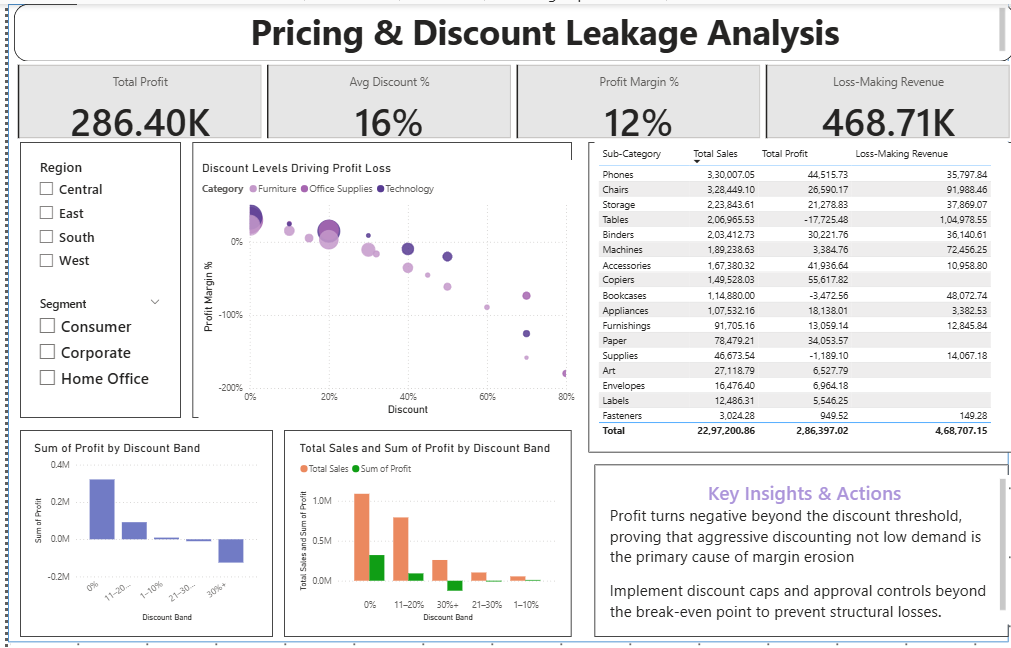

The dashboard page shown, as its layout file describes it:
{"tool":"powerbi","page":{"name":"Page 2","canvas":[1400,900],"ordinal":1},"visuals":[{"type":"shape","box":[0,0,1392,888],"z":0},{"type":"shape","box":[8,0,1392,80],"z":1000},{"type":"cardVisual","fields":{"Data":["Sample - Superstore.Total Profit","Sample - Superstore.Avg Discount %","Sample - Superstore.Profit Margin %","Sample - Superstore.Loss-Making Revenue"]},"box":[8,80,1392,112],"z":2000},{"type":"shape","box":[256,192,528,384],"z":3000},{"type":"scatterChart","title":"Discount Levels Driving Profit Loss","fields":{"X":["Sample - Superstore.Discount"],"Y":["Sample - Superstore.Profit Margin %"],"Series":["Sample - Superstore.Category"],"Size":["Sample - Superstore.Total Sales"]},"box":[264,216,528,360],"z":4000},{"type":"shape","box":[16,192,224,384],"z":5000},{"type":"shape","box":[16,592,352,288],"z":6000},{"type":"shape","box":[384,592,400,288],"z":7000},{"type":"columnChart","fields":{"Y":["Sum(Sample - Superstore.Profit)"],"Category":["Sample - Superstore.Discount Band"]},"box":[32,608,320,256],"z":8000},{"type":"clusteredColumnChart","fields":{"Y":["Sample - Superstore.Total Sales","Sum(Sample - Superstore.Profit)"],"Category":["Sample - Superstore.Discount Band"]},"box":[400,608,368,256],"z":9000},{"type":"shape","box":[808,192,592,432],"z":10000},{"type":"shape","box":[816,640,576,240],"z":11000},{"type":"textbox","box":[832,656,560,208],"z":12000},{"type":"slicer","fields":{"Values":["Sample - Superstore.Region"]},"box":[32,208,192,176],"z":13000},{"type":"slicer","fields":{"Values":["Sample - Superstore.Segment"]},"box":[32,400,192,160],"z":14000},{"type":"tableEx","fields":{"Values":["Sample - Superstore.Sub-Category","Sample - Superstore.Total Sales","Sample - Superstore.Total Profit","Sample - Superstore.Loss-Making Revenue"]},"box":[816,192,576,416],"z":15000},{"type":"textbox","box":[96,0,1296,72],"z":16000}]}

Visuals, with their boxes in screenshot pixels (x1, y1, x2, y2), scaled from the page's 1400x900 canvas onto the 1011x648 screenshot:
shape: <box>0,0,1005,639</box>
shape: <box>6,0,1010,58</box>
cardVisual - Sample - Superstore.Total Profit x Sample - Superstore.Avg Discount %: <box>6,58,1010,138</box>
shape: <box>185,138,566,415</box>
"Discount Levels Driving Profit Loss" scatterChart: <box>191,156,572,415</box>
shape: <box>12,138,173,415</box>
shape: <box>12,426,266,634</box>
shape: <box>277,426,566,634</box>
columnChart - Sum(Sample - Superstore.Profit) x Sample - Superstore.Discount Band: <box>23,438,254,622</box>
clusteredColumnChart - Sample - Superstore.Total Sales x Sum(Sample - Superstore.Profit): <box>289,438,555,622</box>
shape: <box>583,138,1010,449</box>
shape: <box>589,461,1005,634</box>
textbox: <box>601,472,1005,622</box>
slicer - Sample - Superstore.Region: <box>23,150,162,276</box>
slicer - Sample - Superstore.Segment: <box>23,288,162,403</box>
tableEx - Sample - Superstore.Sub-Category x Sample - Superstore.Total Sales: <box>589,138,1005,438</box>
textbox: <box>69,0,1005,52</box>
